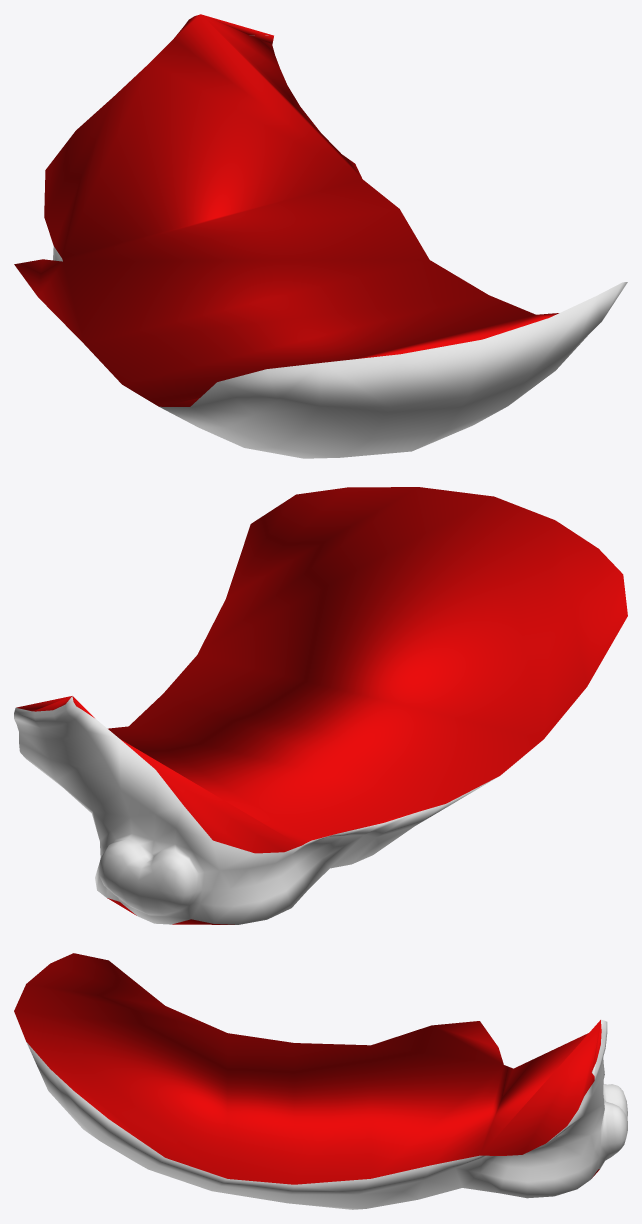
File: gib_1.dae
3 renders of one model, top to bottom at view 1: azimuth 30°, elevation 25°; view 2: azimuth 150°, elevation 25°; view 3: azimuth 270°, elevation 25°, orthographic. The views are drawn at different scales.
Visible parts, largest first — view 1: gib_1; view 2: gib_1; view 3: gib_1.
Boxes of the visible parts, x1,y1,x2,y2 form: gib_1: (14,14,627,458); gib_1: (14,487,627,924); gib_1: (14,953,627,1209).
Bounding box in the file's own units: 0.9636 × 1.57 × 0.6016.
